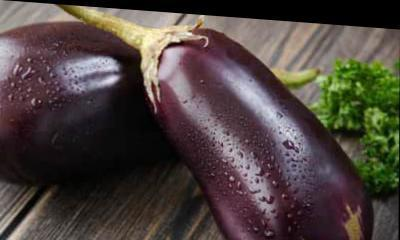eggplant: (0, 1, 350, 239)
